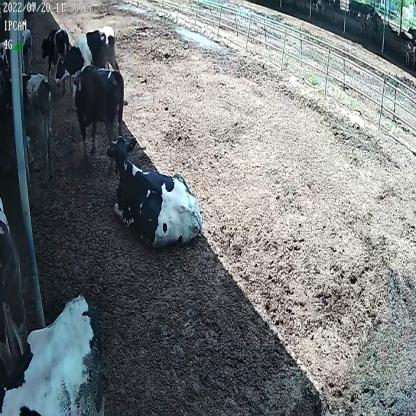cow: (103, 136, 204, 254), (70, 64, 125, 162), (53, 26, 118, 94), (40, 26, 73, 89)
